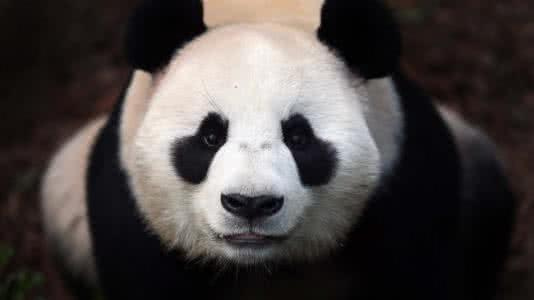panda: (38, 1, 512, 300)
